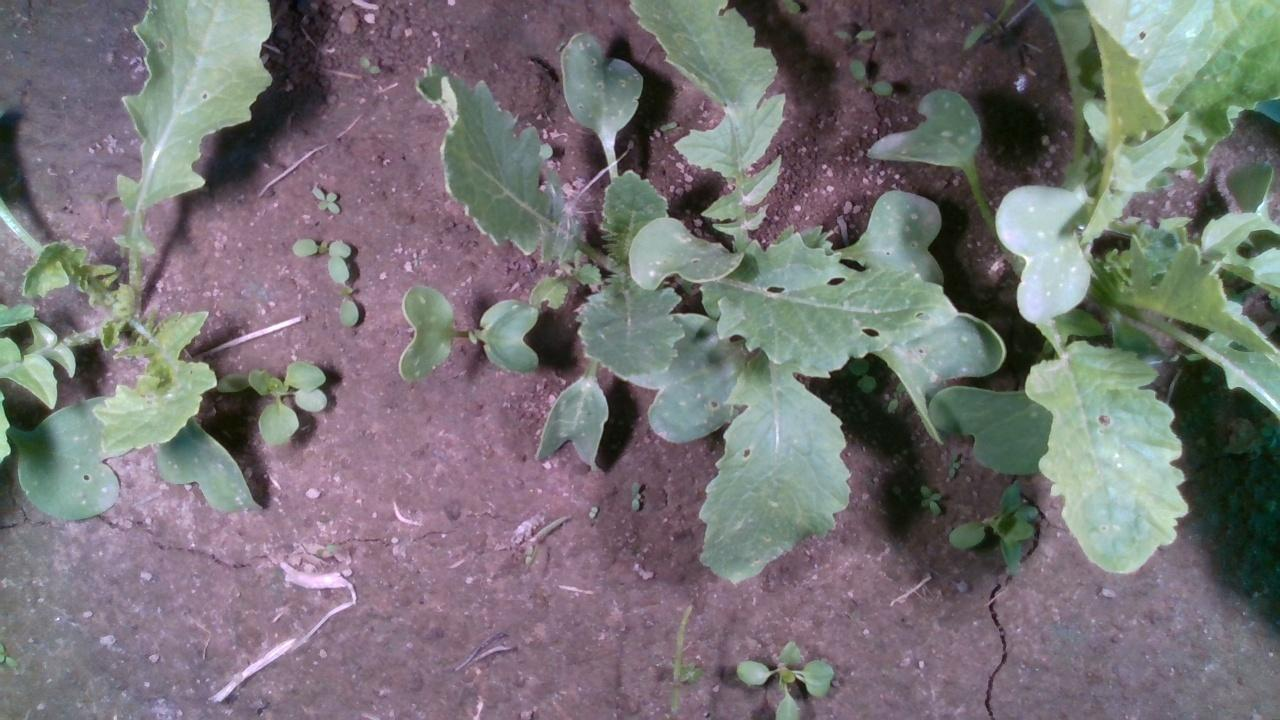weed: (848, 57, 895, 96), (309, 183, 343, 215), (916, 483, 942, 516), (357, 52, 381, 75), (831, 28, 877, 40), (629, 478, 641, 512), (585, 504, 597, 519)
